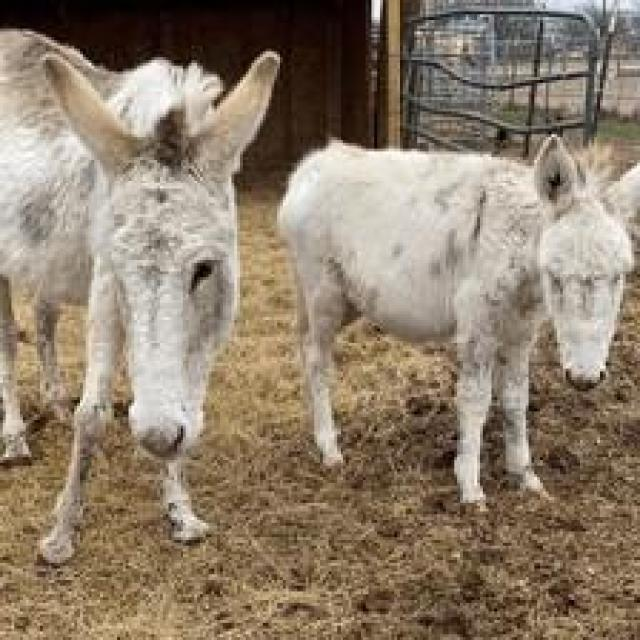Donkey: (0, 23, 280, 568), (274, 128, 637, 512)
